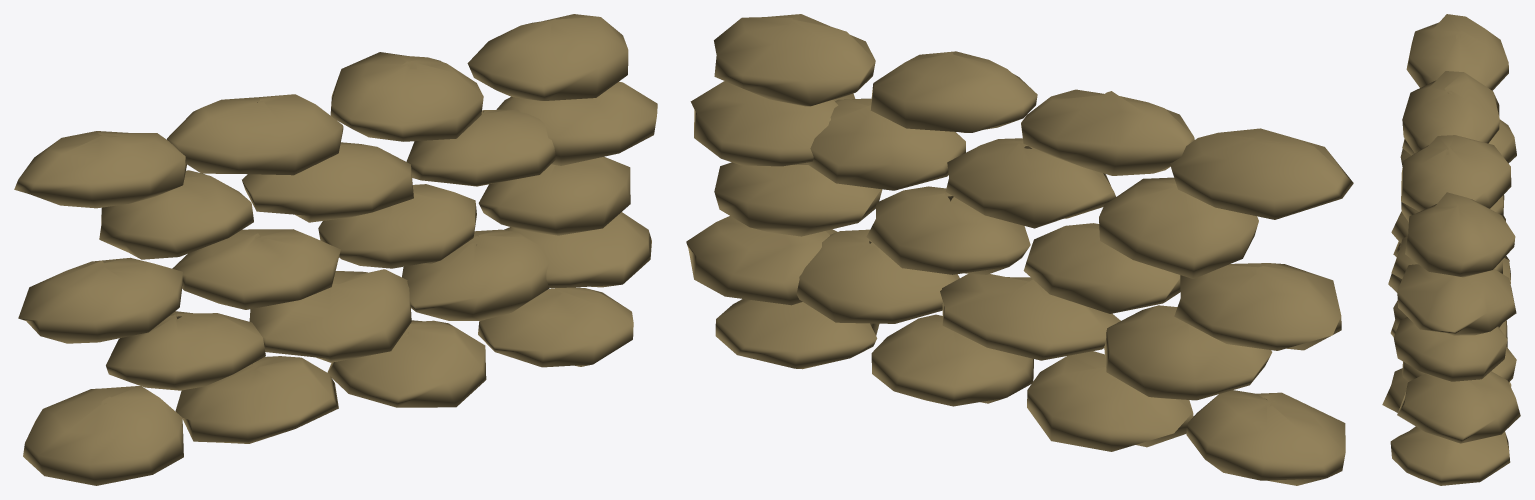
File: sandbag_03.obj
The picture shows the model from 3 angles, left to right: view 1: azimuth 30°, elevation 25°; view 2: azimuth 150°, elevation 25°; view 3: azimuth 270°, elevation 25°; orthographic projection. The views are drawn at different scales.
Parts seen in each view (by area): view 1: sandbag_03; view 2: sandbag_03; view 3: sandbag_03.
Boxes of the visible parts, left/top/right/bottom form: sandbag_03: left=14, top=14, right=657, bottom=485; sandbag_03: left=686, top=14, right=1353, bottom=485; sandbag_03: left=1382, top=14, right=1520, bottom=485.
Bounding box in the file's own units: 1.98 × 0.9869 × 0.4617.
